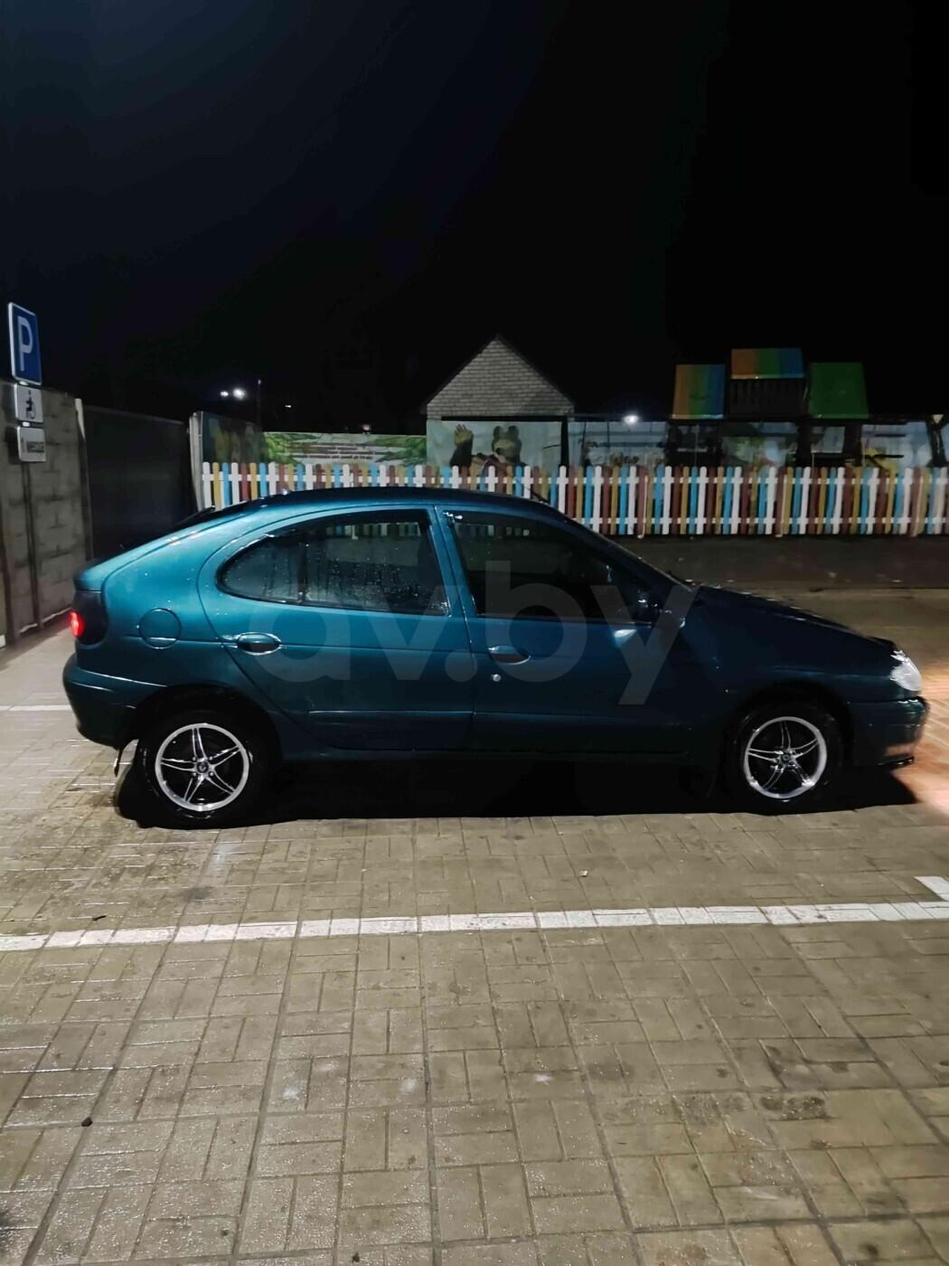Megane_1995-1999: (67, 485, 938, 827)
